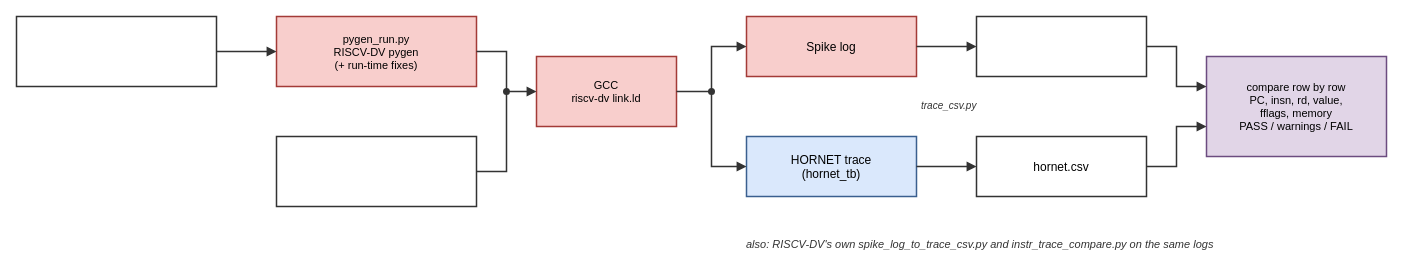
The diagram is 1403 pixels wide and 267 high, and some of its shapes have lost their labels. Here are the shapes that lost their labels. From the top down, the box of each, then its label:
(15, 15, 217, 87): testlist.yaml riscv_core_setting.py (per ISA)
(975, 15, 1147, 77): spike.csv
(275, 135, 477, 207): custom tests verif/dv/directed/*.S
